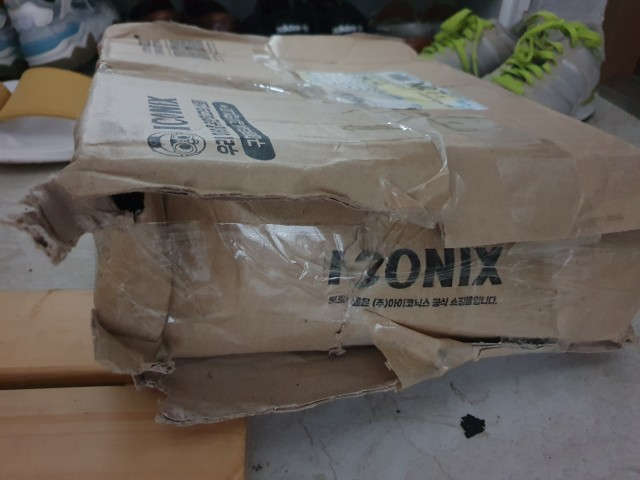damaged package: (6, 156, 561, 425)
